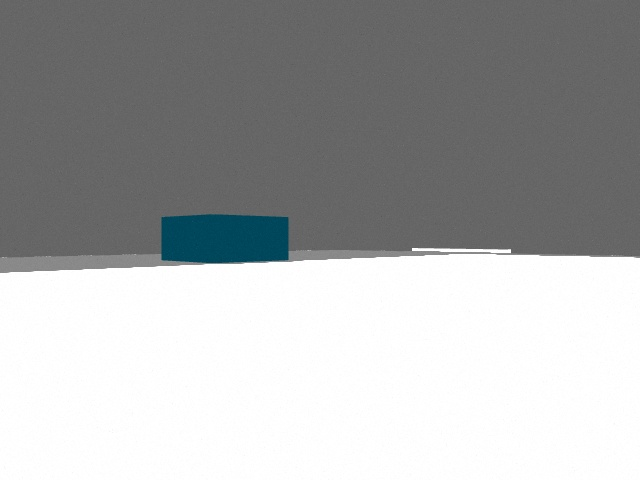blue_drop_zone: (161, 214, 289, 263)
